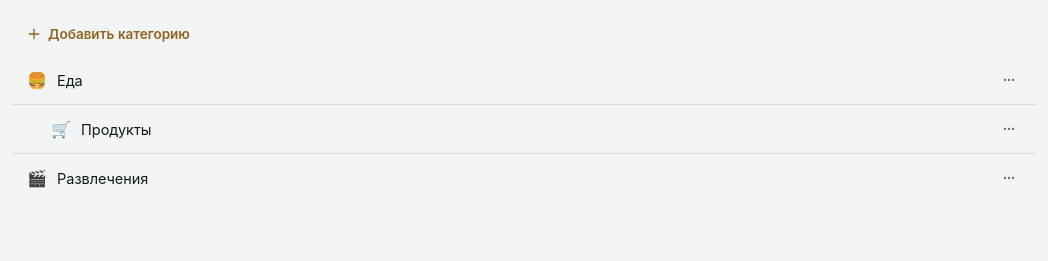
Test: CategoryTree — adding a category › reveals a form when the add toggle is tapped
This screenshot has width=1048, height=261.
Click the button with class "category-tree__add-toggle" at (119, 34), box [12,12,1036,56]
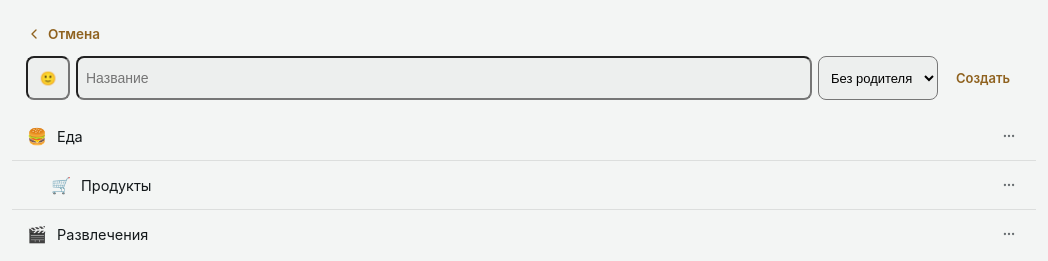
Expected: the form with class "category-tree__add-form" is shown, [12,56,1036,112]
